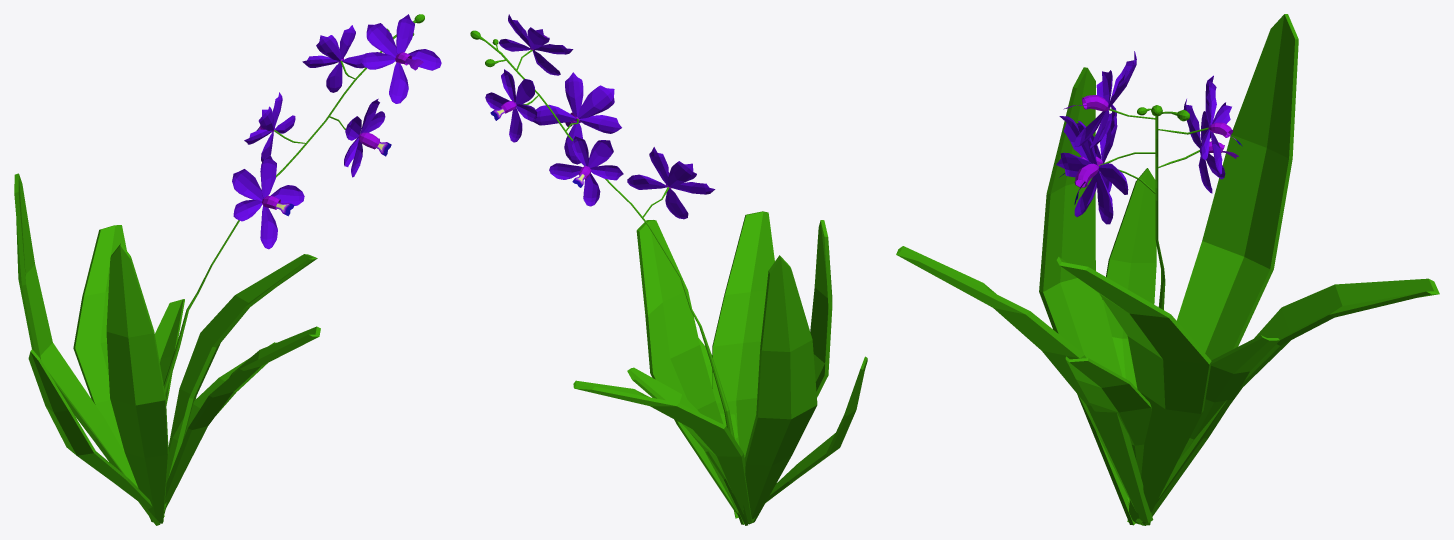
File: orchidpoison3.fbx
The picture shows the model from 3 angles, left to right: view 1: azimuth 30°, elevation 25°; view 2: azimuth 150°, elevation 25°; view 3: azimuth 270°, elevation 25°; orthographic projection. The views are drawn at different scales.
Visible parts, largest first — view 1: Sphere.037, Sphere.039, Sphere.040, Sphere.042, Sphere.043, Sphere.038, Sphere.044, Sphere.041, Sphere.054, Cube.087, Cube.068, Cube.091 (+3 smaller); view 2: Sphere.039, Sphere.042, Sphere.043, Sphere.040, Sphere.037, Sphere.038, Sphere.044, Sphere.054, Cube.078, Cube.081, Cube.079, Cube.080 (+3 smaller); view 3: Sphere.039, Sphere.042, Sphere.037, Sphere.043, Sphere.040, Sphere.038, Sphere.041, Sphere.044, Sphere.054.
Boxes of the visible parts, bbox=[...] form: Sphere.037: bbox=[106, 243, 168, 523]; Sphere.039: bbox=[14, 173, 160, 525]; Sphere.040: bbox=[73, 225, 164, 517]; Sphere.042: bbox=[164, 254, 317, 514]; Sphere.043: bbox=[165, 326, 320, 507]; Sphere.038: bbox=[28, 349, 152, 508]; Sphere.044: bbox=[155, 299, 184, 405]; Sphere.041: bbox=[166, 342, 276, 482]; Sphere.054: bbox=[163, 34, 396, 394]; Cube.087: bbox=[366, 23, 397, 57]; Cube.068: bbox=[232, 169, 263, 200]; Cube.091: bbox=[389, 62, 408, 103]; Sphere.039: bbox=[743, 255, 817, 524]; Sphere.042: bbox=[636, 220, 738, 514]; Sphere.043: bbox=[712, 211, 774, 518]; Sphere.040: bbox=[573, 380, 752, 523]; Sphere.037: bbox=[749, 220, 832, 522]; Sphere.038: bbox=[763, 356, 867, 503]; Sphere.044: bbox=[627, 367, 747, 525]; Sphere.054: bbox=[485, 40, 734, 438]; Cube.078: bbox=[578, 85, 614, 118]; Cube.081: bbox=[533, 104, 575, 125]; Cube.079: bbox=[565, 72, 583, 116]; Cube.080: bbox=[580, 115, 621, 133]; Sphere.039: bbox=[1127, 14, 1298, 524]; Sphere.042: bbox=[1056, 257, 1211, 524]; Sphere.037: bbox=[1039, 67, 1135, 525]; Sphere.043: bbox=[896, 246, 1153, 523]; Sphere.040: bbox=[1135, 278, 1439, 523]; Sphere.038: bbox=[1102, 168, 1156, 506]; Sphere.041: bbox=[1065, 356, 1151, 525]; Sphere.044: bbox=[1142, 335, 1279, 525]; Sphere.054: bbox=[1155, 116, 1165, 309].
Size of the model in its own units: 2142 by 2330 by 1851.
